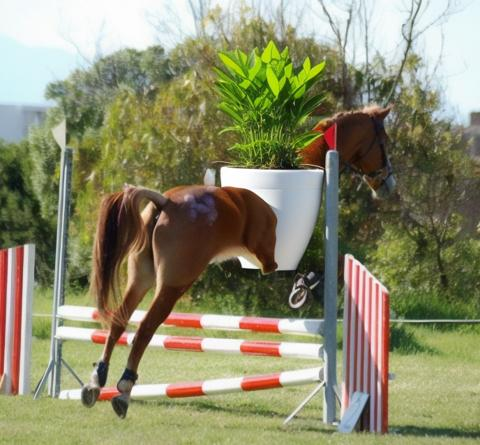horse: (80, 100, 401, 423)
pottedplant: (215, 40, 324, 271)
